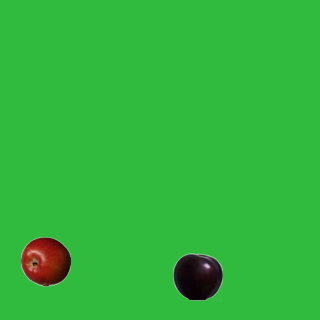Apple Braeburn: (20, 236, 70, 286)
Cherry Wax Black: (172, 251, 222, 301)
